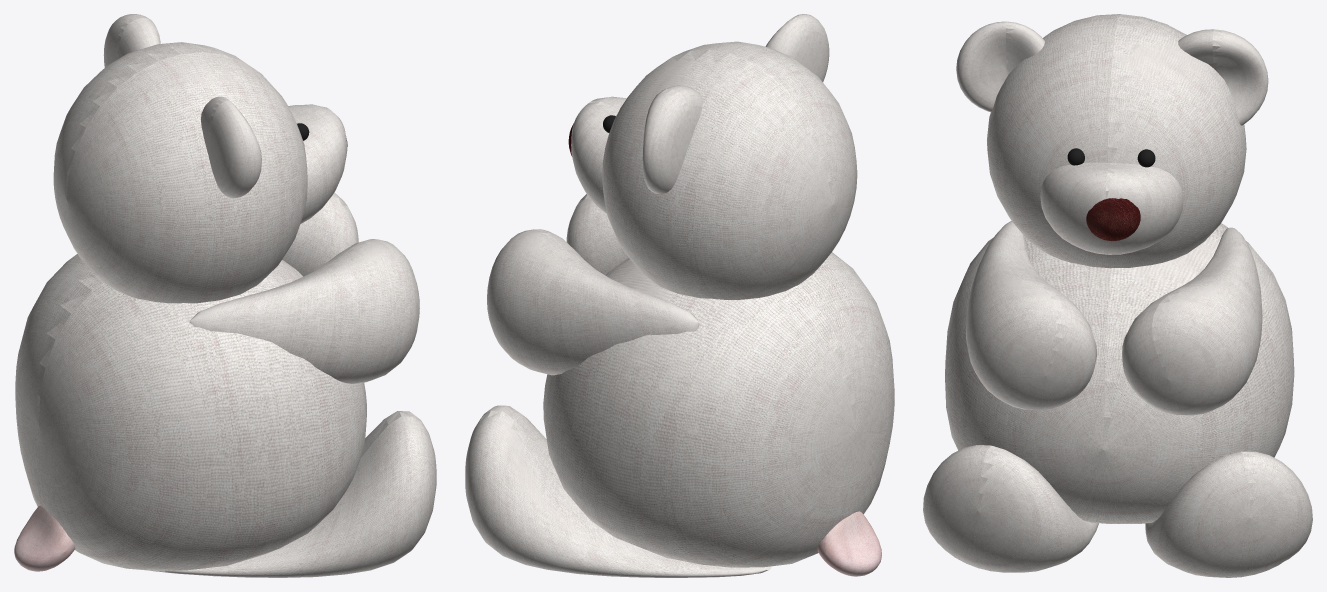
3 views of the same model, side by side, from view 1: azimuth 30°, elevation 25°; view 2: azimuth 150°, elevation 25°; view 3: azimuth 270°, elevation 25° (orthographic). The views are drawn at different scales.
Visible parts, largest first — view 1: _3DGeom_6, _3DGeom_6.103, _3DGeom_6.034, _3DGeom_6.051, _3DGeom_6.137, _3DGeom_1, _3DGeom_6.017, _3DGeom_5, _3DGeom_6.120; view 2: _3DGeom_6, _3DGeom_6.103, _3DGeom_6.077, _3DGeom_6.017, _3DGeom_6.120, _3DGeom_1, _3DGeom_5, _3DGeom_6.034, _3DGeom_6.137; view 3: _3DGeom_6, _3DGeom_6.103, _3DGeom_6.017, _3DGeom_6.034, _3DGeom_6.077, _3DGeom_6.051, _3DGeom_1, _3DGeom_6.137, _3DGeom_6.120, _3DGeom_4.
Part boxes in pixels (box(x1,y1,x2,y2)): _3DGeom_6: box(15, 254, 366, 571); _3DGeom_6.103: box(53, 42, 307, 303); _3DGeom_6.034: box(189, 239, 419, 383); _3DGeom_6.051: box(151, 411, 436, 577); _3DGeom_6.137: box(201, 96, 261, 198); _3DGeom_1: box(288, 104, 347, 223); _3DGeom_6.017: box(282, 192, 358, 276); _3DGeom_5: box(14, 506, 75, 571); _3DGeom_6.120: box(103, 14, 160, 67); _3DGeom_6: box(543, 252, 894, 567); _3DGeom_6.103: box(602, 41, 857, 299); _3DGeom_6.077: box(465, 405, 768, 577); _3DGeom_6.017: box(487, 229, 699, 375); _3DGeom_6.120: box(642, 85, 702, 194); _3DGeom_1: box(571, 96, 626, 213); _3DGeom_5: box(817, 511, 881, 576); _3DGeom_6.034: box(566, 194, 628, 274); _3DGeom_6.137: box(765, 14, 829, 81); _3DGeom_6: box(945, 223, 1294, 523); _3DGeom_6.103: box(987, 14, 1246, 268); _3DGeom_6.017: box(1122, 227, 1262, 415); _3DGeom_6.034: box(966, 221, 1096, 410); _3DGeom_6.077: box(1145, 451, 1312, 577); _3DGeom_6.051: box(923, 445, 1098, 572); _3DGeom_1: box(1040, 162, 1183, 254); _3DGeom_6.137: box(956, 21, 1044, 112); _3DGeom_6.120: box(1178, 29, 1268, 125); _3DGeom_4: box(1086, 198, 1140, 241).
Size of the model in its own units: 101 by 98.22 by 134.
Materials: 4 (3 with a texture image).
